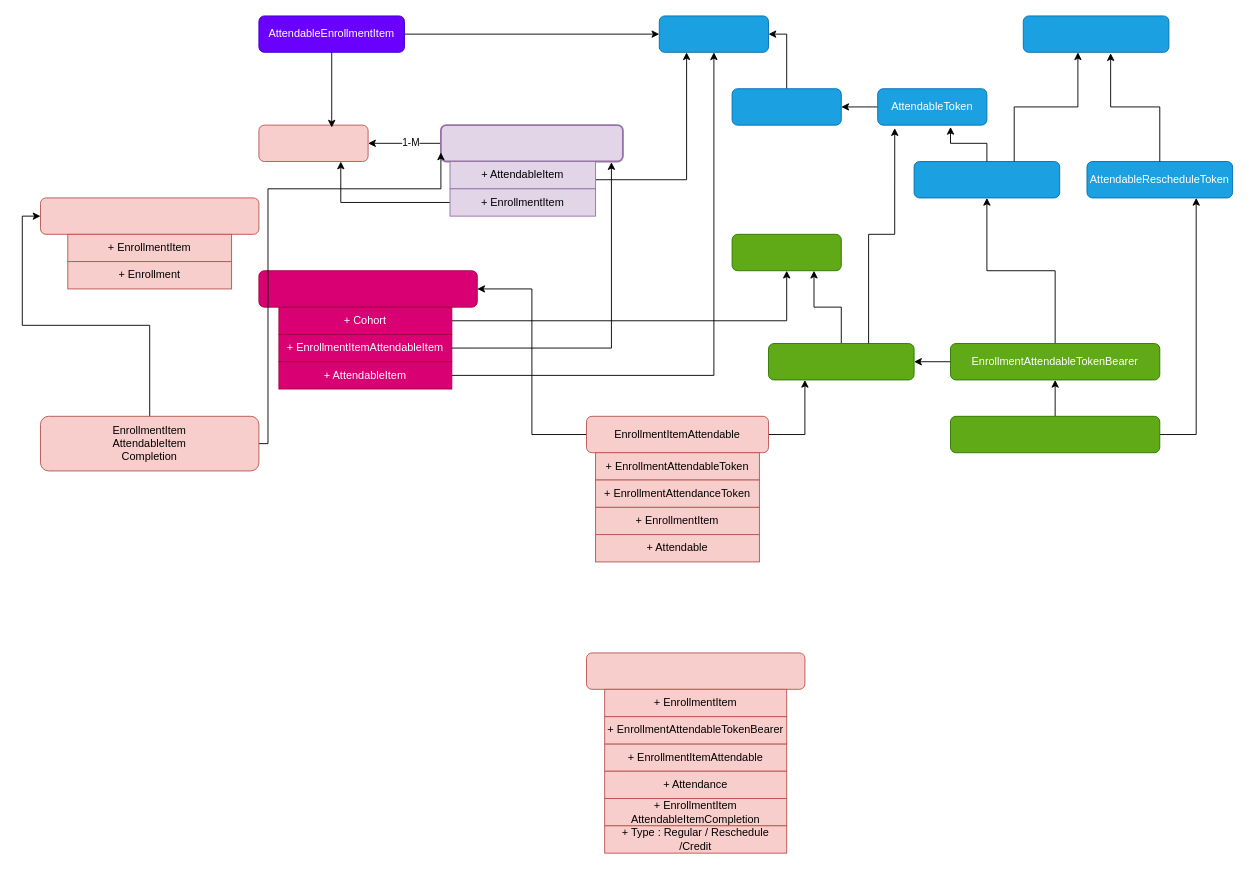
Image size: 1249x869. Some labels were removed from this diagram. The box of each missing label's shape, as (x1, y1, x2, y2) in pixels:
Attendable: (731, 88, 841, 125)
AttendableItem: (658, 15, 768, 52)
AttendableSubscription: (1022, 15, 1169, 52)
AttendableTokenBearer: (913, 161, 1060, 198)
Cohort: (731, 233, 841, 271)
EnrollmentAttendableRescheduleToken: (950, 415, 1160, 453)
EnrollmentAttendableToken: (768, 343, 914, 380)
EnrollmentAttendanceToken: (258, 270, 477, 307)
EnrollmentItem: (258, 124, 368, 162)
EnrollmentItemAttendableItem: (440, 124, 623, 162)
EnrollmentItemAttendance: (586, 652, 805, 689)
EnrollmentItemCompletion: (40, 197, 259, 234)
